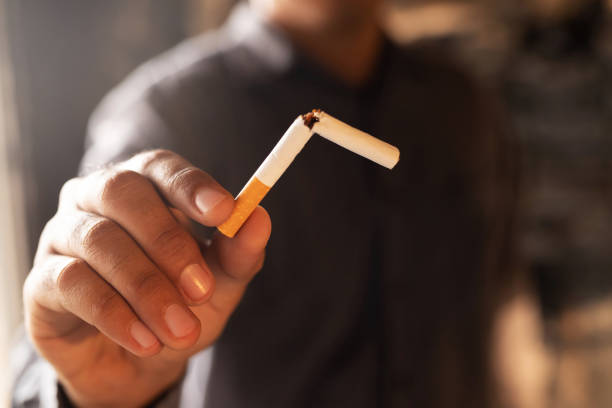cigarette: (213, 111, 319, 237), (309, 109, 402, 172)
